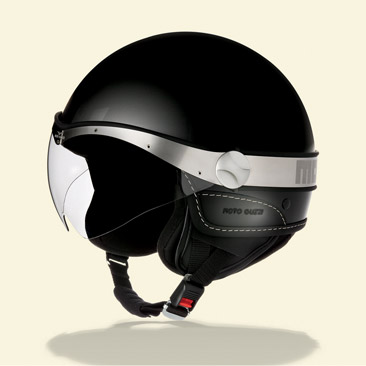helmet: (79, 46, 331, 245)
